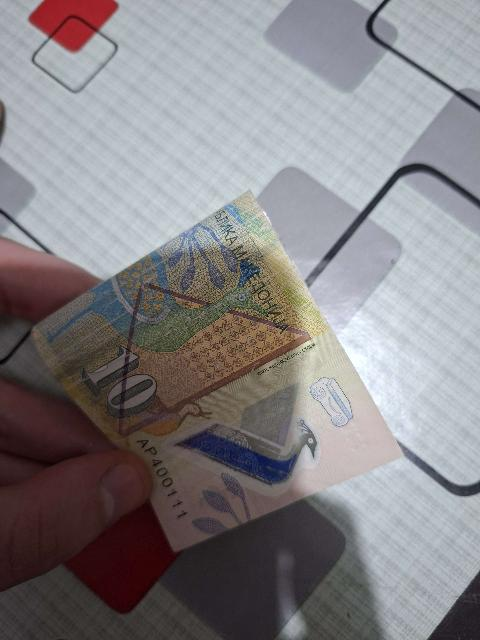10_note: (38, 192, 407, 554)
